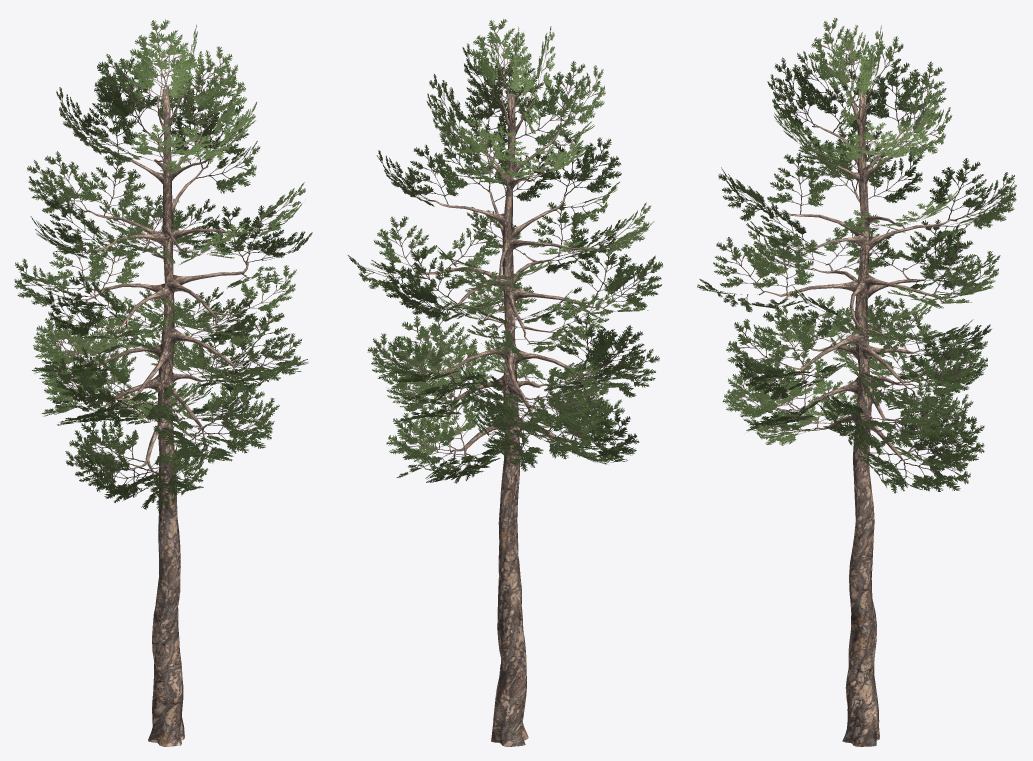
The model's file is pine-tree-optimized.glb.
The picture shows the model from 3 angles, left to right: view 1: azimuth 30°, elevation 25°; view 2: azimuth 150°, elevation 25°; view 3: azimuth 270°, elevation 25°; orthographic projection.
Parts seen in each view (by area): view 1: Tree_1, Tree_0; view 2: Tree_1, Tree_0; view 3: Tree_1, Tree_0.
Boxes of the visible parts, <box> form: Tree_1: <box>14,19,312,510</box>; Tree_0: <box>77,88,253,746</box>; Tree_1: <box>347,19,662,483</box>; Tree_0: <box>413,88,604,746</box>; Tree_1: <box>697,18,1016,493</box>; Tree_0: <box>759,88,956,746</box>.
Size of the model in its own units: 2.18 by 5.32 by 2.17.
Materials: 2 (2 with a texture image).
